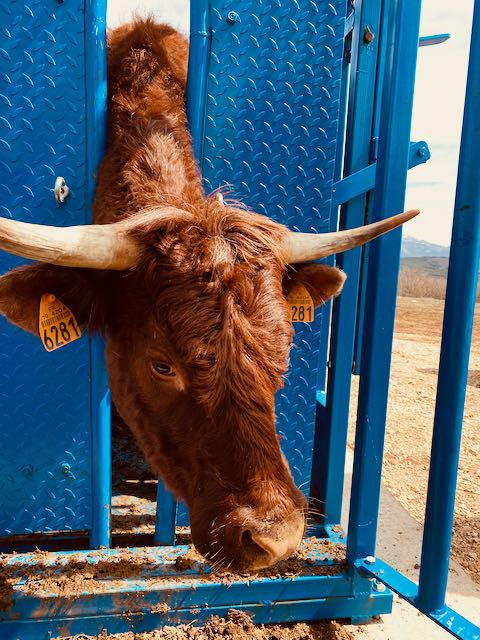muzzles: (207, 503, 316, 574)
